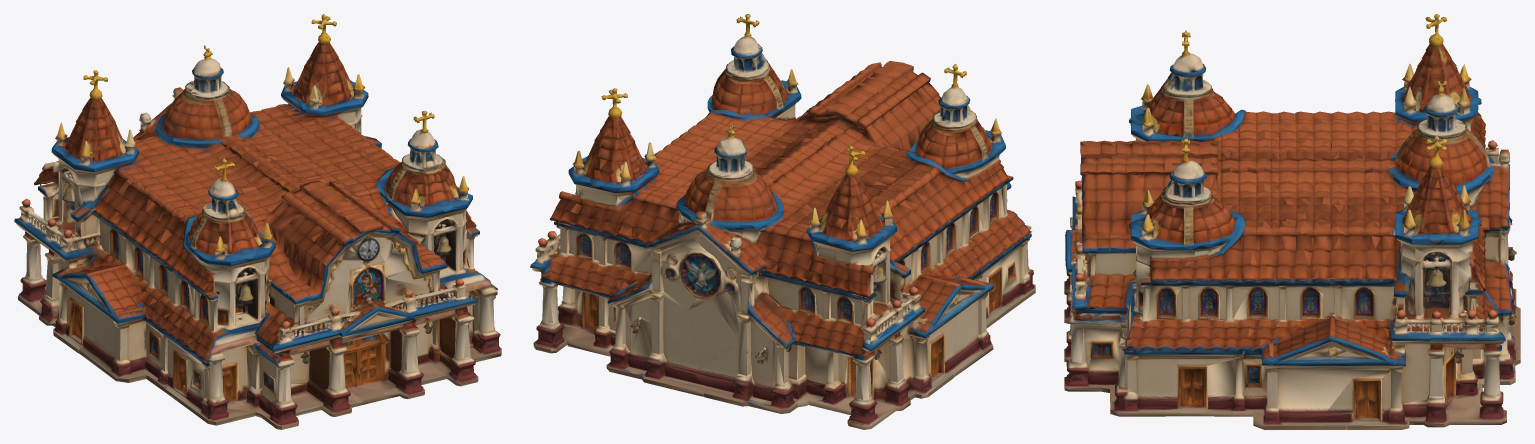
The model's file is iglesia.glb.
3 views of the same model, side by side, from view 1: azimuth 30°, elevation 25°; view 2: azimuth 150°, elevation 25°; view 3: azimuth 270°, elevation 25° (orthographic). The views are drawn at different scales.
Parts seen in each view (by area): view 1: iglesia; view 2: iglesia; view 3: iglesia.
Part boxes in pixels (x1=…): iglesia: x1=14, y1=14, x2=501, y2=429; iglesia: x1=530, y1=14, x2=1035, y2=429; iglesia: x1=1064, y1=14, x2=1520, y2=429.
Size of what is drawn, in the model's own units: 18.04 by 11.99 by 18.85.
Materials: 1 (1 with a texture image).
